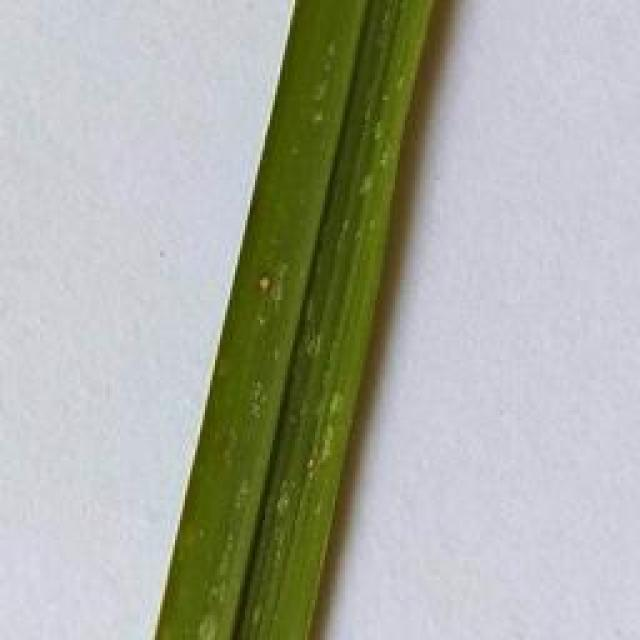Unhealthy: (253, 272, 278, 296)
